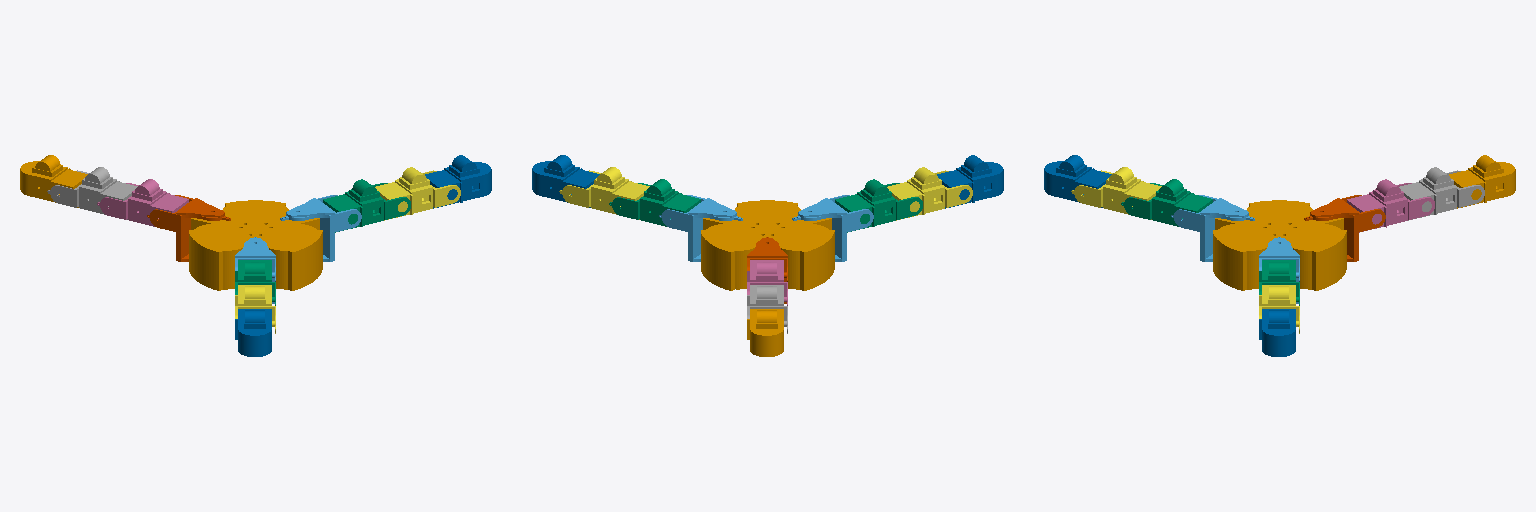
URDF robot description (hand_assembly):
<?xml version="1.0" ?>
<robot name="hand_assembly">

<!-- <material name="silver">
  <color rgba="0.700 0.700 0.700 1.000"/>
</material> -->

<link name="base_link">
  <inertial>
    <origin xyz="-1.4296293806596375e-05 2.476182899508402e-05 -0.018113017390094938" rpy="0 0 0"/>
    <mass value="1.258877803352642"/>
    <inertia ixx="0.0014181655556115204" iyy="0.0014167262864896689" izz="0.0024705430558723067" ixy="1.2464361051740964e-06" iyz="4.95230302728175e-07" ixz="-2.859256145862734e-07"/>
  </inertial>
  <visual>
    <origin xyz="0 0 0" rpy="0 0 0"/>
    <geometry>
      <mesh filename="meshes/base_link.stl" scale="0.001 0.001 0.001"/>
    </geometry>
    <!-- <material name="silver"/>
    <material/> -->
  </visual>
  <collision>
    <origin xyz="0 0 0" rpy="0 0 0"/>
    <geometry>
      <mesh filename="meshes/base_link.stl" scale="0.001 0.001 0.001"/>
    </geometry>
  </collision>
</link>

<link name="side_11">
  <inertial>
    <origin xyz="0.022932442574379833 0.00029379552413575386 -0.016108384940578965" rpy="0 0 0"/>
    <mass value="0.031721528262617364"/>
    <inertia ixx="1.4428595135041886e-05" iyy="1.7697540102706323e-05" izz="1.1724682315484994e-05" ixy="-3.6048209406044674e-07" iyz="-7.55081162250383e-08" ixz="1.0942827601481952e-06"/>
  </inertial>
  <visual>
    <origin xyz="-0.05 -0.0 -0.007" rpy="0 0 0"/>
    <geometry>
      <mesh filename="meshes/side_11.stl" scale="0.001 0.001 0.001"/>
    </geometry>
    <!-- <material name="silver"/>
    <material/> -->
  </visual>
  <collision>
    <origin xyz="-0.05 -0.0 -0.007" rpy="0 0 0"/>
    <geometry>
      <mesh filename="meshes/side_11.stl" scale="0.001 0.001 0.001"/>
    </geometry>
  </collision>
</link>

<link name="finger1_01">
  <inertial>
    <origin xyz="0.013312453651947068 -0.02090363768976653 0.00336735855839608" rpy="0 0 0"/>
    <mass value="0.1927519223029253"/>
    <inertia ixx="3.085375724528148e-05" iyy="5.065844333267816e-05" izz="5.168357107456379e-05" ixy="-9.822978300079416e-07" iyz="-1.8040740779810724e-07" ixz="-8.771790526031647e-06"/>
  </inertial>
  <visual>
    <origin xyz="-0.102515 -0.019915 0.001052" rpy="0 0 0"/>
    <geometry>
      <mesh filename="meshes/finger1_01.stl" scale="0.001 0.001 0.001"/>
    </geometry>
    <!-- <material name="silver"/>
    <material/> -->
  </visual>
  <collision>
    <origin xyz="-0.102515 -0.019915 0.001052" rpy="0 0 0"/>
    <geometry>
      <mesh filename="meshes/finger1_01.stl" scale="0.001 0.001 0.001"/>
    </geometry>
  </collision>
</link>

<link name="finger1_11">
  <inertial>
    <origin xyz="0.014919664792453796 -0.020888529805285643 0.004090195407434487" rpy="0 0 0"/>
    <mass value="0.21647119728439546"/>
    <inertia ixx="3.429241098501298e-05" iyy="5.8062964549411913e-05" izz="6.007065608180321e-05" ixy="-9.989152261446468e-07" iyz="-2.1536027424412996e-07" ixz="-1.0474908700657765e-05"/>
  </inertial>
  <visual>
    <origin xyz="-0.161015 -0.019915 0.001052" rpy="0 0 0"/>
    <geometry>
      <mesh filename="meshes/finger1_11.stl" scale="0.001 0.001 0.001"/>
    </geometry>
    <!-- <material name="silver"/>
    <material/> -->
  </visual>
  <collision>
    <origin xyz="-0.161015 -0.019915 0.001052" rpy="0 0 0"/>
    <geometry>
      <mesh filename="meshes/finger1_11.stl" scale="0.001 0.001 0.001"/>
    </geometry>
  </collision>
</link>

<link name="finger1_21">
  <inertial>
    <origin xyz="0.024007170264284283 -0.020865585534825547 0.002092261980941372" rpy="0 0 0"/>
    <mass value="0.29469167868527735"/>
    <inertia ixx="4.326420791623045e-05" iyy="0.00012227053970832041" izz="0.00012397646310049332" ixy="-1.0052845576672325e-06" iyz="-1.6394784882967919e-07" ixz="-1.437880343987995e-06"/>
  </inertial>
  <visual>
    <origin xyz="-0.219515 -0.019915 0.001052" rpy="0 0 0"/>
    <geometry>
      <mesh filename="meshes/finger1_21.stl" scale="0.001 0.001 0.001"/>
    </geometry>
    <!-- <material name="silver"/>
    <material/> -->
  </visual>
  <collision>
    <origin xyz="-0.219515 -0.019915 0.001052" rpy="0 0 0"/>
    <geometry>
      <mesh filename="meshes/finger1_21.stl" scale="0.001 0.001 0.001"/>
    </geometry>
  </collision>
</link>

<link name="side_21">
  <inertial>
    <origin xyz="-0.011720655742159664 0.019713450806916187 -0.016108385280567" rpy="0 0 0"/>
    <mass value="0.031721528738080075"/>
    <inertia ixx="1.656811733135601e-05" iyy="1.555801810384413e-05" izz="1.1724682474320585e-05" ixy="1.595735749478758e-06" iyz="9.854306557324479e-07" ixz="-4.81749420341921e-07"/>
  </inertial>
  <visual>
    <origin xyz="0.025 -0.043301 -0.007" rpy="0 0 0"/>
    <geometry>
      <mesh filename="meshes/side_21.stl" scale="0.001 0.001 0.001"/>
    </geometry>
    <!-- <material name="silver"/>
    <material/> -->
  </visual>
  <collision>
    <origin xyz="0.025 -0.043301 -0.007" rpy="0 0 0"/>
    <geometry>
      <mesh filename="meshes/side_21.stl" scale="0.001 0.001 0.001"/>
    </geometry>
  </collision>
</link>

<link name="finger2_01">
  <inertial>
    <origin xyz="0.011446458475810745 0.021980836468138004 0.0033673579962633397" rpy="0 0 0"/>
    <mass value="0.192751923056906"/>
    <inertia ixx="4.485657702361142e-05" iyy="3.665562391958843e-05" izz="5.1683571076910004e-05" ixy="9.066829489534634e-06" iyz="-7.506389623486197e-06" ixz="4.542132455830709e-06"/>
  </inertial>
  <visual>
    <origin xyz="0.068504 -0.078823 0.001052" rpy="0 0 0"/>
    <geometry>
      <mesh filename="meshes/finger2_01.stl" scale="0.001 0.001 0.001"/>
    </geometry>
    <!-- <material name="silver"/>
    <material/> -->
  </visual>
  <collision>
    <origin xyz="0.068504 -0.078823 0.001052" rpy="0 0 0"/>
    <geometry>
      <mesh filename="meshes/finger2_01.stl" scale="0.001 0.001 0.001"/>
    </geometry>
  </collision>
</link>

<link name="finger2_11">
  <inertial>
    <origin xyz="0.011446457998220569 0.021980323520509243 0.003367358368217071" rpy="0 0 0"/>
    <mass value="0.1927519225817779"/>
    <inertia ixx="4.4856576866605935e-05" iyy="3.665562349883418e-05" izz="5.168357096961389e-05" ixy="9.066829466056886e-06" iyz="-7.506389657738549e-06" ixz="4.542132753285915e-06"/>
  </inertial>
  <visual>
    <origin xyz="0.097754 -0.129486 0.001052" rpy="0 0 0"/>
    <geometry>
      <mesh filename="meshes/finger2_11.stl" scale="0.001 0.001 0.001"/>
    </geometry>
    <!-- <material name="silver"/>
    <material/> -->
  </visual>
  <collision>
    <origin xyz="0.097754 -0.129486 0.001052" rpy="0 0 0"/>
    <geometry>
      <mesh filename="meshes/finger2_11.stl" scale="0.001 0.001 0.001"/>
    </geometry>
  </collision>
</link>

<link name="finger2_21">
  <inertial>
    <origin xyz="0.011030456030108327 0.02281875180892784 0.003260510236213916" rpy="0 0 0"/>
    <mass value="0.1990629672693476"/>
    <inertia ixx="4.9392569099721007e-05" iyy="3.7349792175389845e-05" izz="5.593654120491717e-05" ixy="1.122735507960368e-05" iyz="-6.962163115425496e-06" ixz="4.2713971655467344e-06"/>
  </inertial>
  <visual>
    <origin xyz="0.127004 -0.180148 0.001052" rpy="0 0 0"/>
    <geometry>
      <mesh filename="meshes/finger2_21.stl" scale="0.001 0.001 0.001"/>
    </geometry>
    <!-- <material name="silver"/>
    <material/> -->
  </visual>
  <collision>
    <origin xyz="0.127004 -0.180148 0.001052" rpy="0 0 0"/>
    <geometry>
      <mesh filename="meshes/finger2_21.stl" scale="0.001 0.001 0.001"/>
    </geometry>
  </collision>
</link>

<link name="side_31">
  <inertial>
    <origin xyz="-0.011211787181996384 -0.020007245939481007 -0.0161083854417595" rpy="0 0 0"/>
    <mass value="0.031721528285783375"/>
    <inertia ixx="1.7192490484971155e-05" iyy="1.4933644723435678e-05" izz="1.1724682297812851e-05" ixy="-1.235253628514889e-06" iyz="-9.099226229421713e-07" ixz="-6.125333267225594e-07"/>
  </inertial>
  <visual>
    <origin xyz="0.025 0.043301 -0.007" rpy="0 0 0"/>
    <geometry>
      <mesh filename="meshes/side_31.stl" scale="0.001 0.001 0.001"/>
    </geometry>
    <!-- <material name="silver"/>
    <material/> -->
  </visual>
  <collision>
    <origin xyz="0.025 0.043301 -0.007" rpy="0 0 0"/>
    <geometry>
      <mesh filename="meshes/side_31.stl" scale="0.001 0.001 0.001"/>
    </geometry>
  </collision>
</link>

<link name="finger3_01">
  <inertial>
    <origin xyz="-0.02475891241824414 -0.0010771986715013976 0.0033673579962628444" rpy="0 0 0"/>
    <mass value="0.19275192305690583"/>
    <inertia ixx="4.6557966865337815e-05" iyy="3.495423407786442e-05" izz="5.168357107691217e-05" ixy="-8.08453160641774e-06" iyz="7.686796905846332e-06" ixz="4.22965787672772e-06"/>
  </inertial>
  <visual>
    <origin xyz="0.034011 0.098738 0.001052" rpy="0 0 0"/>
    <geometry>
      <mesh filename="meshes/finger3_01.stl" scale="0.001 0.001 0.001"/>
    </geometry>
    <!-- <material name="silver"/>
    <material/> -->
  </visual>
  <collision>
    <origin xyz="0.034011 0.098738 0.001052" rpy="0 0 0"/>
    <geometry>
      <mesh filename="meshes/finger3_01.stl" scale="0.001 0.001 0.001"/>
    </geometry>
  </collision>
</link>

<link name="finger3_11">
  <inertial>
    <origin xyz="-0.02475891298570304 -0.0010766856719868212 0.0033673583682165497" rpy="0 0 0"/>
    <mass value="0.1927519225817774"/>
    <inertia ixx="4.655796649024983e-05" iyy="3.495423387524124e-05" izz="5.1683570969587866e-05" ixy="-8.084531708891975e-06" iyz="7.686797180586307e-06" ixz="4.229657757670673e-06"/>
  </inertial>
  <visual>
    <origin xyz="0.063261 0.149401 0.001052" rpy="0 0 0"/>
    <geometry>
      <mesh filename="meshes/finger3_11.stl" scale="0.001 0.001 0.001"/>
    </geometry>
    <!-- <material name="silver"/>
    <material/> -->
  </visual>
  <collision>
    <origin xyz="0.063261 0.149401 0.001052" rpy="0 0 0"/>
    <geometry>
      <mesh filename="meshes/finger3_11.stl" scale="0.001 0.001 0.001"/>
    </geometry>
  </collision>
</link>

<link name="finger3_21">
  <inertial>
    <origin xyz="-0.025276591205196916 -0.0018564111493006852 0.0032605102362137255" rpy="0 0 0"/>
    <mass value="0.19906296726934794"/>
    <inertia ixx="5.008366112273059e-05" iyy="3.665870015233082e-05" izz="5.593654120481656e-05" ixy="-1.0828352914040926e-05" iyz="7.1802200127299675e-06" ixz="3.893711540480776e-06"/>
  </inertial>
  <visual>
    <origin xyz="0.092511 0.200063 0.001052" rpy="0 0 0"/>
    <geometry>
      <mesh filename="meshes/finger3_21.stl" scale="0.001 0.001 0.001"/>
    </geometry>
    <!-- <material name="silver"/>
    <material/> -->
  </visual>
  <collision>
    <origin xyz="0.092511 0.200063 0.001052" rpy="0 0 0"/>
    <geometry>
      <mesh filename="meshes/finger3_21.stl" scale="0.001 0.001 0.001"/>
    </geometry>
  </collision>
</link>

<joint name="side_1_joint" type="revolute">
  <origin xyz="0.05 0.0 0.007" rpy="0 0 0"/>
  <parent link="base_link"/>
  <child link="side_11"/>
  <axis xyz="-0.0 0.0 1.0"/>
  <limit upper="0.785398" lower="-0.785398" effort="100" velocity="100"/>
</joint>
<transmission name="side_1_joint_tran">
  <type>transmission_interface/SimpleTransmission</type>
  <joint name="side_1_joint">
    <hardwareInterface>PositionJointInterface</hardwareInterface>
  </joint>
  <actuator name="side_1_joint_actr">
    <hardwareInterface>PositionJointInterface</hardwareInterface>
    <mechanicalReduction>1</mechanicalReduction>
  </actuator>
</transmission>

<joint name="finger_1_1_joint" type="revolute">
  <origin xyz="0.052515 0.019915 -0.008052" rpy="0 0 0"/>
  <parent link="side_11"/>
  <child link="finger1_01"/>
  <axis xyz="0.0 -1.0 -0.0"/>
  <limit upper="1.570796" lower="0.0" effort="100" velocity="100"/>
</joint>
<transmission name="finger_1_1_joint_tran">
  <type>transmission_interface/SimpleTransmission</type>
  <joint name="finger_1_1_joint">
    <hardwareInterface>PositionJointInterface</hardwareInterface>
  </joint>
  <actuator name="finger_1_1_joint_actr">
    <hardwareInterface>PositionJointInterface</hardwareInterface>
    <mechanicalReduction>1</mechanicalReduction>
  </actuator>
</transmission>

<joint name="finger_1_2_joint" type="revolute">
  <origin xyz="0.0585 0.0 0.0" rpy="0 0 0"/>
  <parent link="finger1_01"/>
  <child link="finger1_11"/>
  <axis xyz="0.0 -1.0 -0.0"/>
  <limit upper="1.570796" lower="0.0" effort="100" velocity="100"/>
</joint>
<transmission name="finger_1_2_joint_tran">
  <type>transmission_interface/SimpleTransmission</type>
  <joint name="finger_1_2_joint">
    <hardwareInterface>PositionJointInterface</hardwareInterface>
  </joint>
  <actuator name="finger_1_2_joint_actr">
    <hardwareInterface>PositionJointInterface</hardwareInterface>
    <mechanicalReduction>1</mechanicalReduction>
  </actuator>
</transmission>

<joint name="finger_1_3_joint" type="revolute">
  <origin xyz="0.0585 0.0 0.0" rpy="0 0 0"/>
  <parent link="finger1_11"/>
  <child link="finger1_21"/>
  <axis xyz="-0.0 -1.0 -0.0"/>
  <limit upper="1.570796" lower="0.0" effort="100" velocity="100"/>
</joint>
<transmission name="finger_1_3_joint_tran">
  <type>transmission_interface/SimpleTransmission</type>
  <joint name="finger_1_3_joint">
    <hardwareInterface>PositionJointInterface</hardwareInterface>
  </joint>
  <actuator name="finger_1_3_joint_actr">
    <hardwareInterface>PositionJointInterface</hardwareInterface>
    <mechanicalReduction>1</mechanicalReduction>
  </actuator>
</transmission>

<joint name="side_2_joint" type="revolute">
  <origin xyz="-0.025 0.043301 0.007" rpy="0 0 0"/>
  <parent link="base_link"/>
  <child link="side_21"/>
  <axis xyz="0.0 -0.0 1.0"/>
  <limit upper="0.785398" lower="-0.785398" effort="100" velocity="100"/>
</joint>
<transmission name="side_2_joint_tran">
  <type>transmission_interface/SimpleTransmission</type>
  <joint name="side_2_joint">
    <hardwareInterface>PositionJointInterface</hardwareInterface>
  </joint>
  <actuator name="side_2_joint_actr">
    <hardwareInterface>PositionJointInterface</hardwareInterface>
    <mechanicalReduction>1</mechanicalReduction>
  </actuator>
</transmission>

<joint name="finger_2_1_joint" type="revolute">
  <origin xyz="-0.043504 0.035522 -0.008052" rpy="0 0 0"/>
  <parent link="side_21"/>
  <child link="finger2_01"/>
  <axis xyz="0.866025 0.5 -0.0"/>
  <limit upper="1.570796" lower="0.0" effort="100" velocity="100"/>
</joint>
<transmission name="finger_2_1_joint_tran">
  <type>transmission_interface/SimpleTransmission</type>
  <joint name="finger_2_1_joint">
    <hardwareInterface>PositionJointInterface</hardwareInterface>
  </joint>
  <actuator name="finger_2_1_joint_actr">
    <hardwareInterface>PositionJointInterface</hardwareInterface>
    <mechanicalReduction>1</mechanicalReduction>
  </actuator>
</transmission>

<joint name="finger_2_2_joint" type="revolute">
  <origin xyz="-0.02925 0.050663 0.0" rpy="0 0 0"/>
  <parent link="finger2_01"/>
  <child link="finger2_11"/>
  <axis xyz="0.866025 0.5 -0.0"/>
  <limit upper="1.570796" lower="0.0" effort="100" velocity="100"/>
</joint>
<transmission name="finger_2_2_joint_tran">
  <type>transmission_interface/SimpleTransmission</type>
  <joint name="finger_2_2_joint">
    <hardwareInterface>PositionJointInterface</hardwareInterface>
  </joint>
  <actuator name="finger_2_2_joint_actr">
    <hardwareInterface>PositionJointInterface</hardwareInterface>
    <mechanicalReduction>1</mechanicalReduction>
  </actuator>
</transmission>

<joint name="finger_2_3_joint" type="revolute">
  <origin xyz="-0.02925 0.050662 0.0" rpy="0 0 0"/>
  <parent link="finger2_11"/>
  <child link="finger2_21"/>
  <axis xyz="0.866025 0.5 0.0"/>
  <limit upper="1.570796" lower="0.0" effort="100" velocity="100"/>
</joint>
<transmission name="finger_2_3_joint_tran">
  <type>transmission_interface/SimpleTransmission</type>
  <joint name="finger_2_3_joint">
    <hardwareInterface>PositionJointInterface</hardwareInterface>
  </joint>
  <actuator name="finger_2_3_joint_actr">
    <hardwareInterface>PositionJointInterface</hardwareInterface>
    <mechanicalReduction>1</mechanicalReduction>
  </actuator>
</transmission>

<joint name="side_3_joint" type="revolute">
  <origin xyz="-0.025 -0.043301 0.007" rpy="0 0 0"/>
  <parent link="base_link"/>
  <child link="side_31"/>
  <axis xyz="0.0 0.0 1.0"/>
  <limit upper="0.785398" lower="-0.785398" effort="100" velocity="100"/>
</joint>
<transmission name="side_3_joint_tran">
  <type>transmission_interface/SimpleTransmission</type>
  <joint name="side_3_joint">
    <hardwareInterface>PositionJointInterface</hardwareInterface>
  </joint>
  <actuator name="side_3_joint_actr">
    <hardwareInterface>PositionJointInterface</hardwareInterface>
    <mechanicalReduction>1</mechanicalReduction>
  </actuator>
</transmission>

<joint name="finger_3_1_joint" type="revolute">
  <origin xyz="-0.009011 -0.055437 -0.008052" rpy="0 0 0"/>
  <parent link="side_31"/>
  <child link="finger3_01"/>
  <axis xyz="-0.866025 0.5 -0.0"/>
  <limit upper="1.570796" lower="0.0" effort="100" velocity="100"/>
</joint>
<transmission name="finger_3_1_joint_tran">
  <type>transmission_interface/SimpleTransmission</type>
  <joint name="finger_3_1_joint">
    <hardwareInterface>PositionJointInterface</hardwareInterface>
  </joint>
  <actuator name="finger_3_1_joint_actr">
    <hardwareInterface>PositionJointInterface</hardwareInterface>
    <mechanicalReduction>1</mechanicalReduction>
  </actuator>
</transmission>

<joint name="finger_3_2_joint" type="revolute">
  <origin xyz="-0.02925 -0.050663 0.0" rpy="0 0 0"/>
  <parent link="finger3_01"/>
  <child link="finger3_11"/>
  <axis xyz="-0.866025 0.5 -0.0"/>
  <limit upper="1.570796" lower="0.0" effort="100" velocity="100"/>
</joint>
<transmission name="finger_3_2_joint_tran">
  <type>transmission_interface/SimpleTransmission</type>
  <joint name="finger_3_2_joint">
    <hardwareInterface>PositionJointInterface</hardwareInterface>
  </joint>
  <actuator name="finger_3_2_joint_actr">
    <hardwareInterface>PositionJointInterface</hardwareInterface>
    <mechanicalReduction>1</mechanicalReduction>
  </actuator>
</transmission>

<joint name="finger_3_3_joint" type="revolute">
  <origin xyz="-0.02925 -0.050662 0.0" rpy="0 0 0"/>
  <parent link="finger3_11"/>
  <child link="finger3_21"/>
  <axis xyz="-0.866025 0.5 -0.0"/>
  <limit upper="1.570796" lower="0.0" effort="100" velocity="100"/>
</joint>
<transmission name="finger_3_3_joint_tran">
  <type>transmission_interface/SimpleTransmission</type>
  <joint name="finger_3_3_joint">
    <hardwareInterface>PositionJointInterface</hardwareInterface>
  </joint>
  <actuator name="finger_3_3_joint_actr">
    <hardwareInterface>PositionJointInterface</hardwareInterface>
    <mechanicalReduction>1</mechanicalReduction>
  </actuator>
</transmission>

</robot>

--- What the picture shows (computed from the rendered views, not written in the file) ---
Views: 3 orthographic renders of the robot side by side, from view 1: azimuth 30°, elevation 25°; view 2: azimuth 150°, elevation 25°; view 3: azimuth 270°, elevation 25°.
Model hand_assembly with 13 links and 12 joints (12 revolute), rooted at base_link, posed all joints at 0.
Visible links, largest first — view 1: base_link, finger2_01, finger1_01, finger1_11, finger2_11, finger1_21, side_21, finger2_21, side_11, finger3_21, finger3_01, finger3_11 (+1 smaller); view 2: base_link, finger1_01, finger3_01, finger3_11, finger1_11, finger3_21, side_11, finger1_21, side_31, finger2_21, finger2_01, finger2_11 (+1 smaller); view 3: base_link, finger3_01, finger2_01, finger2_11, finger3_11, finger2_21, side_31, finger3_21, side_21, finger1_21, finger1_01, finger1_11 (+1 smaller).
Boxes of the visible links, <box> form: base_link: <box>189,200,322,290</box>; finger2_01: <box>97,179,188,226</box>; finger1_01: <box>323,179,410,232</box>; finger1_11: <box>375,167,460,220</box>; finger2_11: <box>47,167,137,219</box>; finger1_21: <box>425,155,491,208</box>; side_21: <box>147,195,230,261</box>; finger2_21: <box>20,155,87,207</box>; side_11: <box>280,195,361,261</box>; finger3_21: <box>235,309,271,356</box>; finger3_01: <box>235,260,275,305</box>; finger3_11: <box>235,285,275,333</box>; base_link: <box>701,200,834,290</box>; finger1_01: <box>609,179,700,226</box>; finger3_01: <box>835,179,922,232</box>; finger3_11: <box>887,167,972,220</box>; finger1_11: <box>559,167,649,219</box>; finger3_21: <box>937,155,1003,208</box>; side_11: <box>659,195,742,261</box>; finger1_21: <box>532,155,599,207</box>; side_31: <box>792,195,873,261</box>; finger2_21: <box>747,309,783,356</box>; finger2_01: <box>747,260,787,305</box>; finger2_11: <box>747,285,787,333</box>; base_link: <box>1213,200,1346,290</box>; finger3_01: <box>1121,179,1212,226</box>; finger2_01: <box>1347,179,1434,232</box>; finger2_11: <box>1399,167,1484,220</box>; finger3_11: <box>1071,167,1161,219</box>; finger2_21: <box>1449,155,1515,208</box>; side_31: <box>1171,195,1254,261</box>; finger3_21: <box>1044,155,1111,207</box>; side_21: <box>1304,195,1385,261</box>; finger1_21: <box>1259,309,1295,356</box>; finger1_01: <box>1259,260,1299,305</box>; finger1_11: <box>1259,285,1299,333</box>.
Size in the robot's own frame: 0.4209 by 0.4799 by 0.0683 metres.
Meshes: 13 distinct files referenced, 13 mesh visuals loaded (13 binary STL).